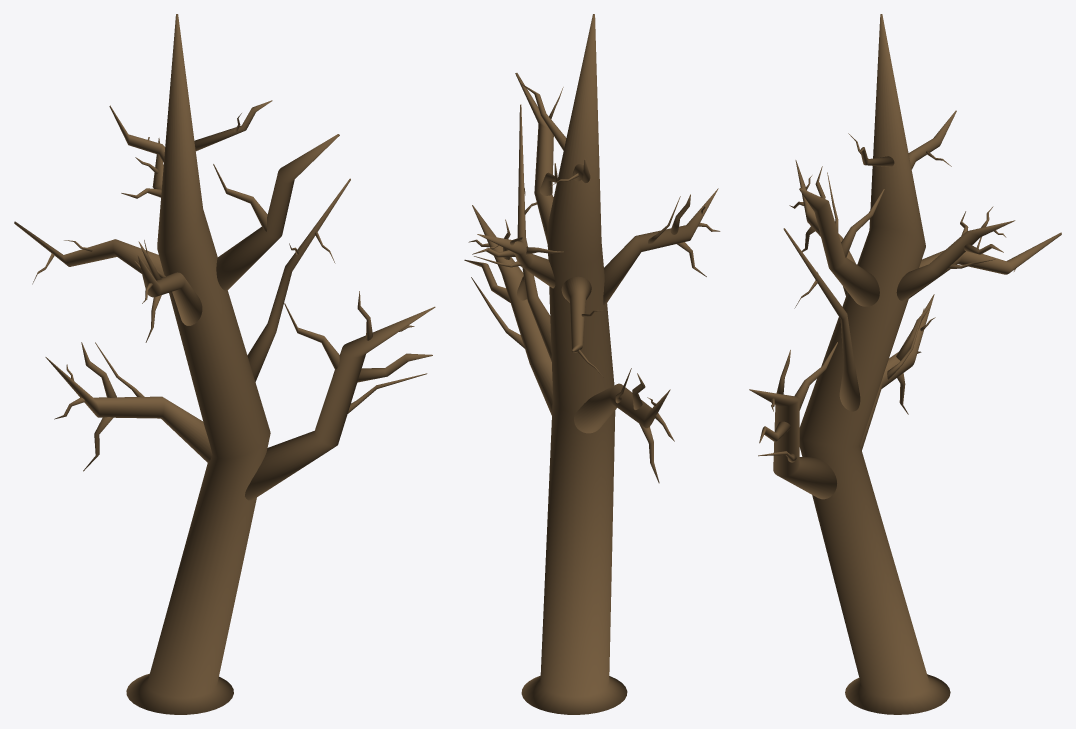
Rendered from Dead Tree.fbx.
3 views of the same model, side by side, from view 1: azimuth 30°, elevation 25°; view 2: azimuth 150°, elevation 25°; view 3: azimuth 270°, elevation 25° (orthographic). The views are drawn at different scales.
Visible parts, largest first — view 1: Cylinder; view 2: Cylinder; view 3: Cylinder.
Part boxes in pixels (x1,y1,x2,y2): Cylinder: [14, 14, 435, 714]; Cylinder: [464, 14, 720, 714]; Cylinder: [749, 14, 1061, 714].
Bounding box in the file's own units: 227 × 498 × 210.
